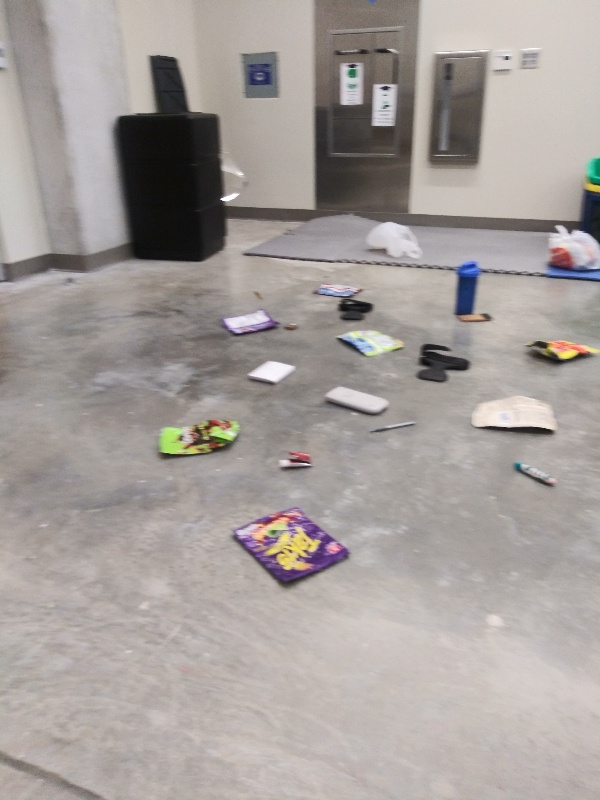bag: (227, 506, 355, 588), (465, 393, 562, 439), (153, 416, 246, 457), (520, 335, 600, 370), (332, 327, 408, 359), (215, 306, 283, 339), (309, 280, 367, 299)
